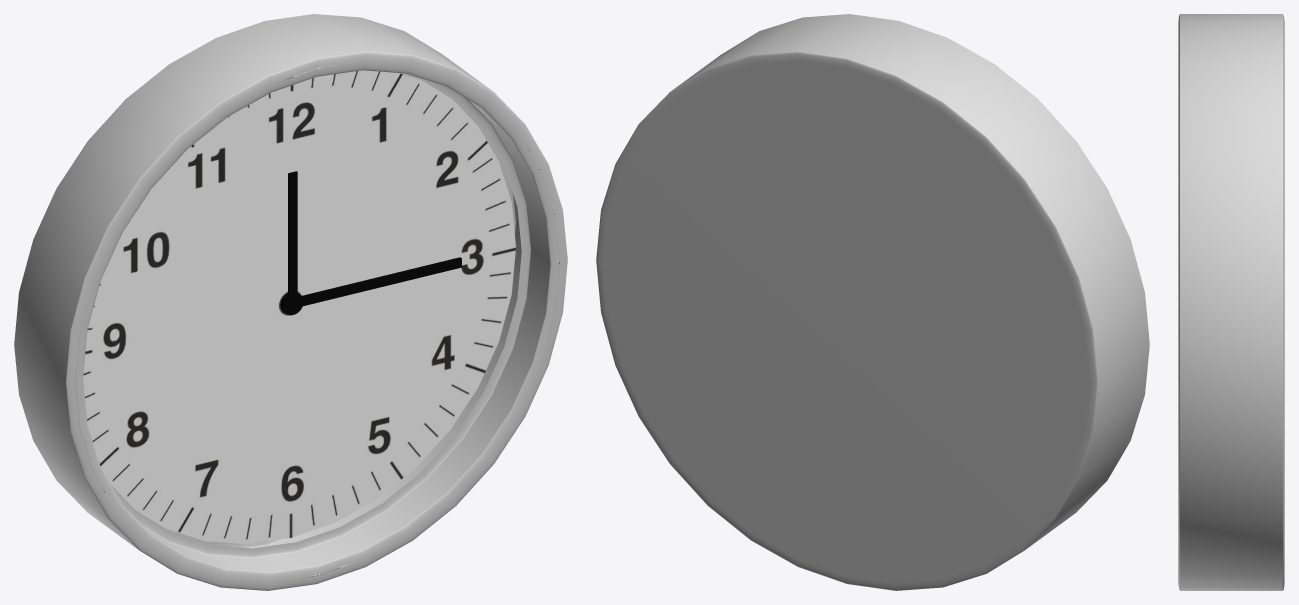
The model's file is jam.glb.
The picture shows the model from 3 angles, left to right: view 1: azimuth 30°, elevation 25°; view 2: azimuth 150°, elevation 25°; view 3: azimuth 270°, elevation 25°; orthographic projection.
Parts seen in each view (by area): view 1: Cylinder.001, Cylinder, Cube.001, Cube; view 2: Cylinder; view 3: Cylinder.
Boxes of the visible parts, left/top/right/bottom form: Cylinder.001: left=83, top=70, right=515, bottom=544; Cylinder: left=14, top=14, right=567, bottom=590; Cube.001: left=302, top=257, right=461, bottom=306; Cube: left=288, top=171, right=297, bottom=295; Cylinder: left=596, top=14, right=1149, bottom=590; Cylinder: left=1178, top=14, right=1284, bottom=590.
Size of the model in its own units: 2 by 2 by 0.3677.
3 materials, 1 textured.
